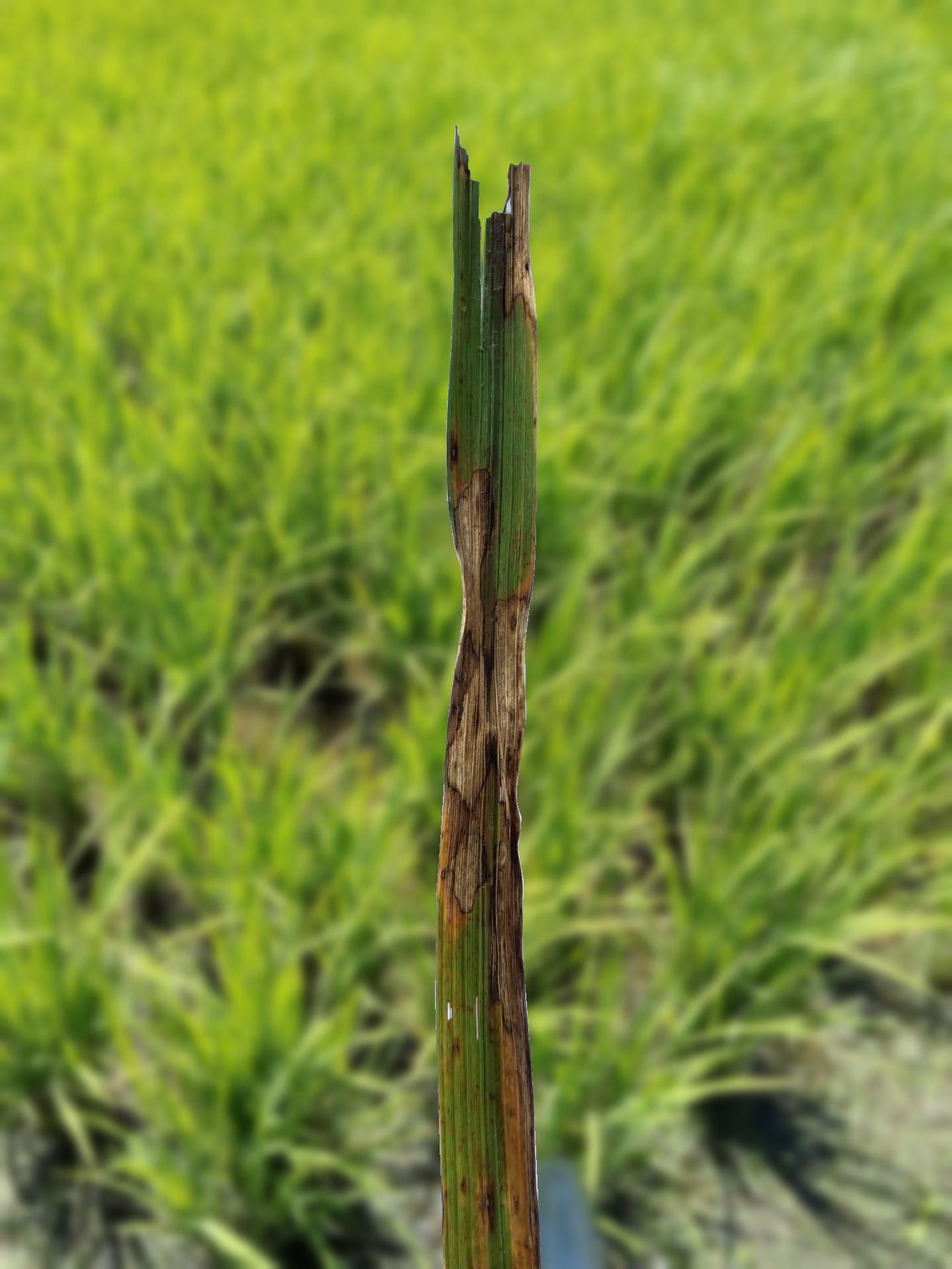BLB: (438, 216, 541, 1268)
LEAF: (435, 125, 541, 1268)
